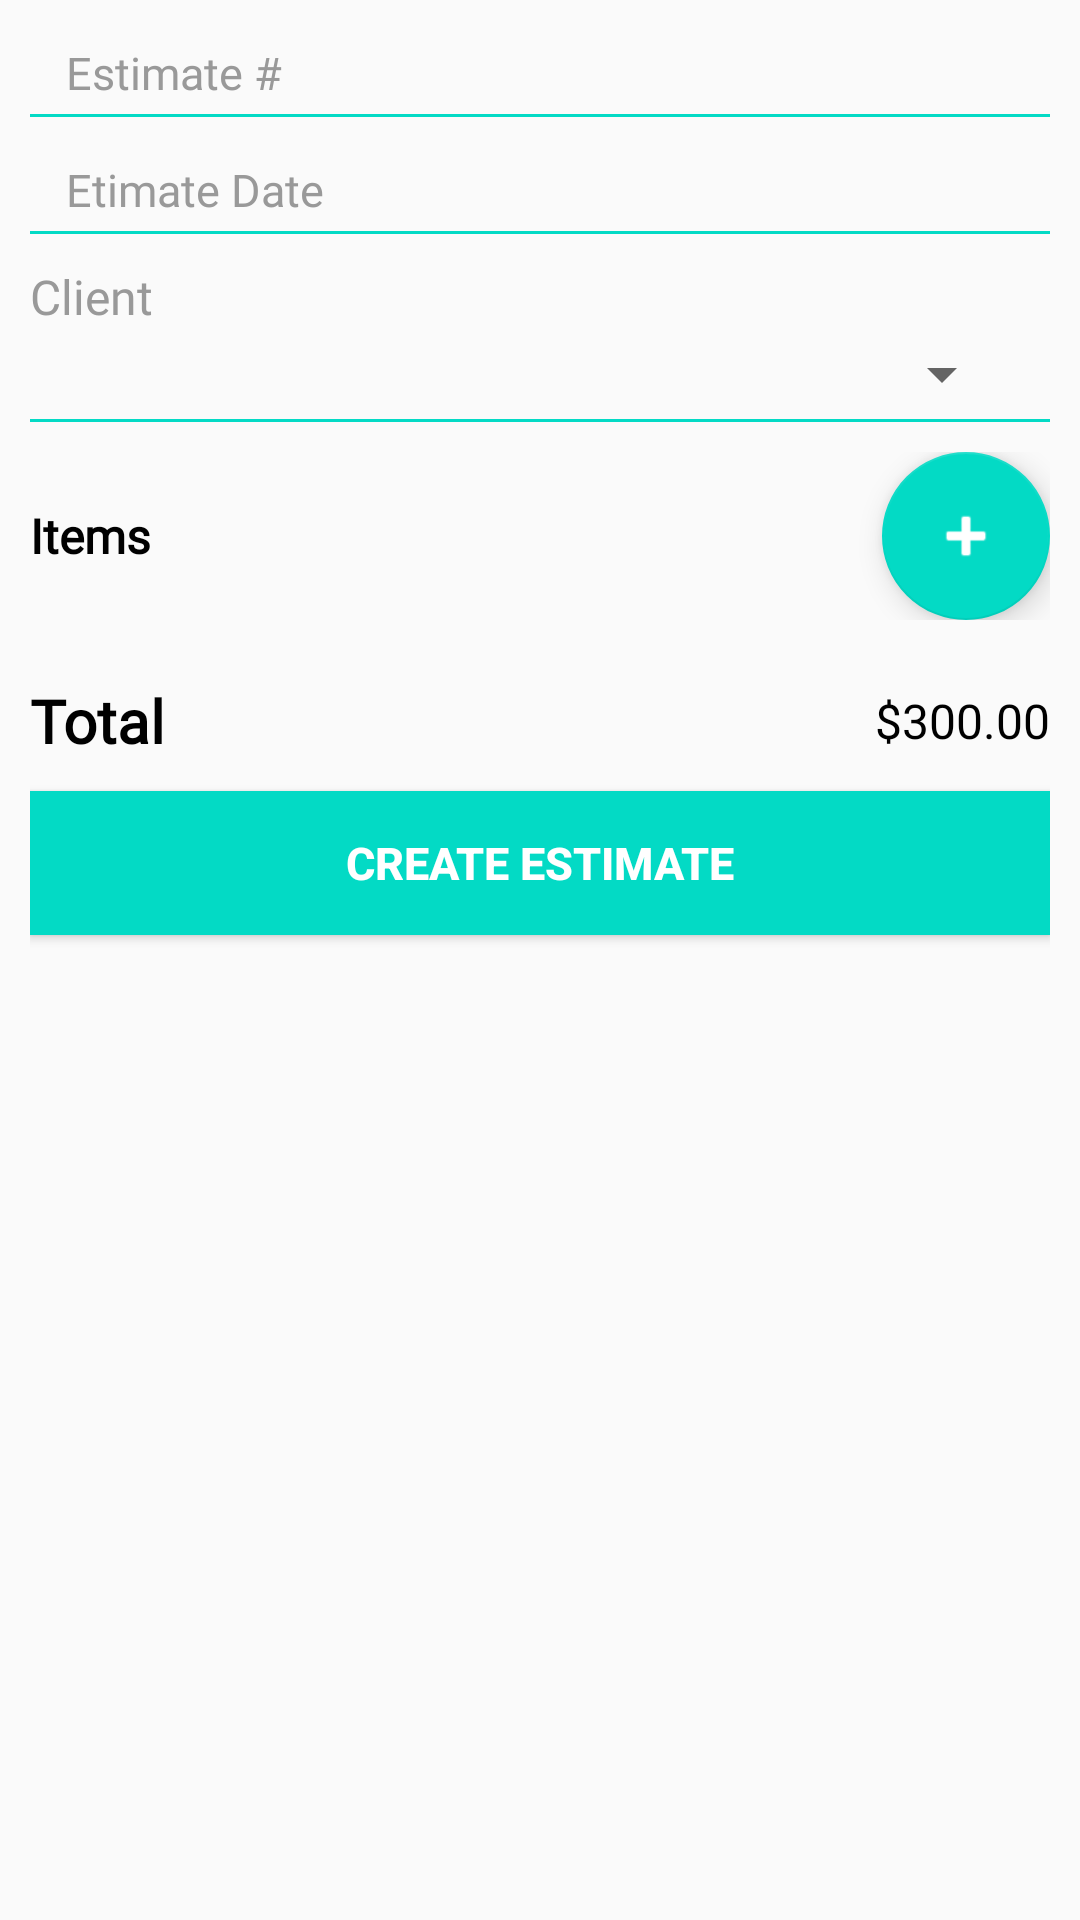

Icons on this 1080 x 1920 Android screen, each with the point to tap as [x,y]:
add: [966,536]
